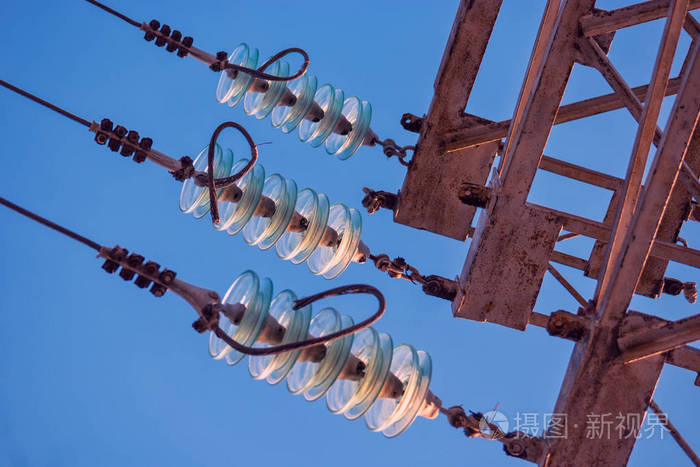insulator: (211, 273, 434, 443), (181, 144, 368, 280), (216, 44, 374, 161)
